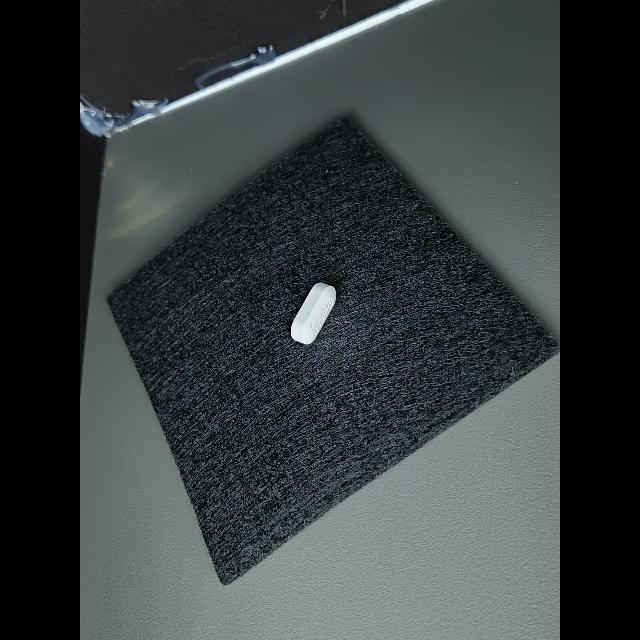Intact Pill: (291, 282, 336, 344)
